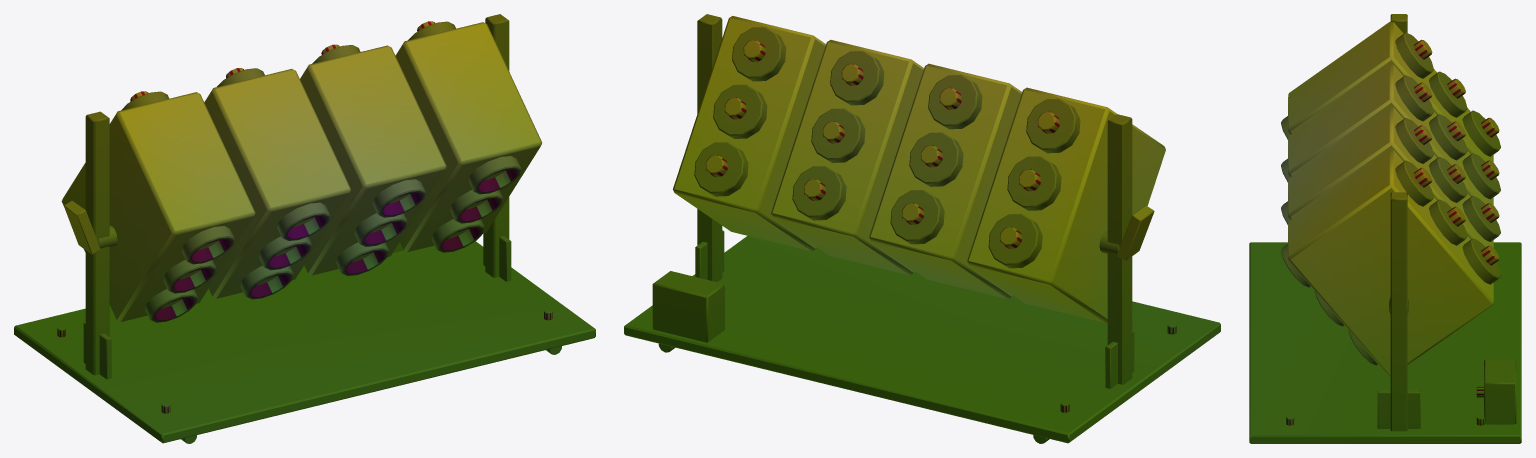
The model's file is RCLModule_salvage_hauler_minefield_ordnance_carrier_fueldrums.fbx.
3 renders of one model, left to right at view 1: azimuth 30°, elevation 25°; view 2: azimuth 150°, elevation 25°; view 3: azimuth 270°, elevation 25°, orthographic. The views are drawn at different scales.
Visible parts, largest first — view 1: RCLModule_salvage_hauler_minefield_ordnance_carrier_fueldrum (×3); view 2: RCLModule_salvage_hauler_minefield_ordnance_carrier_fueldrum (×3); view 3: RCLModule_salvage_hauler_minefield_ordnance_carrier_fueldrum (×3).
Part boxes in pixels (bbox=[...]): RCLModule_salvage_hauler_minefield_ordnance_carrier_fueldrum (×3): bbox=[14, 14, 595, 443]; RCLModule_salvage_hauler_minefield_ordnance_carrier_fueldrum (×3): bbox=[624, 14, 1220, 443]; RCLModule_salvage_hauler_minefield_ordnance_carrier_fueldrum (×3): bbox=[1249, 14, 1521, 443].
Bounding box in the file's own units: 65.46 × 40.01 × 38.
